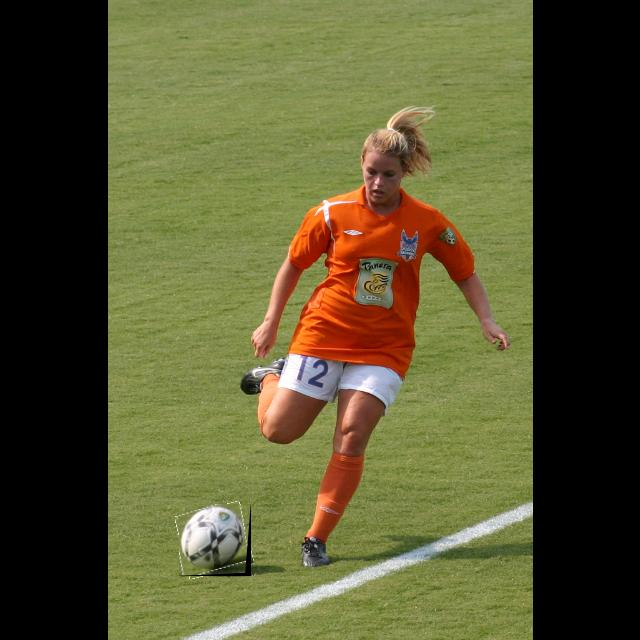Football: (179, 504, 251, 576)
